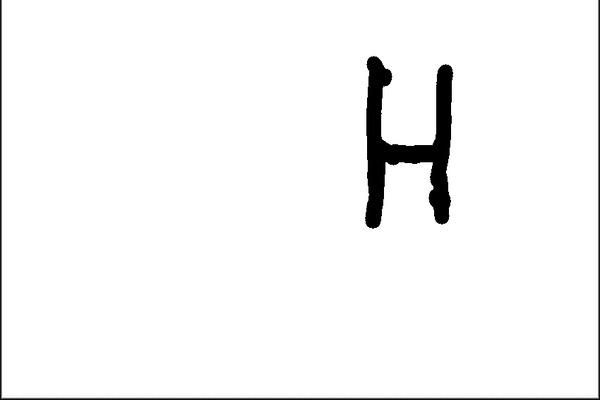H: (349, 47, 460, 236)
